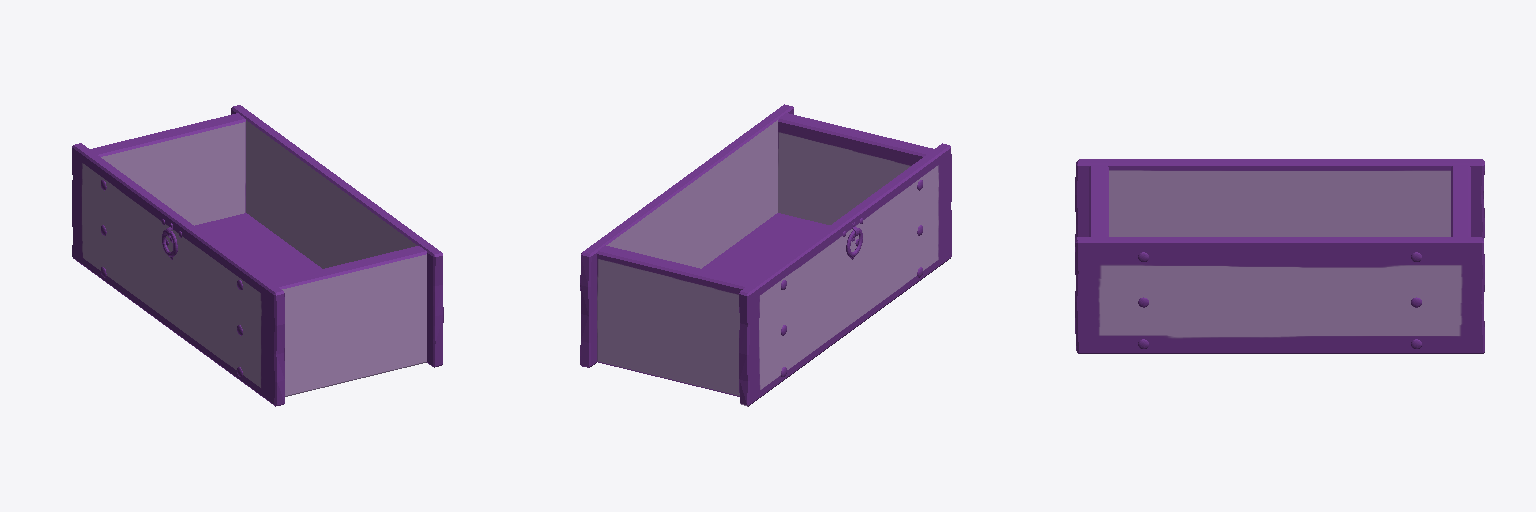
3 views of the same model, side by side, from view 1: azimuth 30°, elevation 25°; view 2: azimuth 150°, elevation 25°; view 3: azimuth 270°, elevation 25° (orthographic).
Visible parts, largest first — view 1: polySurface29; view 2: polySurface29; view 3: polySurface29.
Boxes of the visible parts, x1=… form: polySurface29: x1=72, y1=105, x2=443, y2=406; polySurface29: x1=580, y1=104, x2=951, y2=406; polySurface29: x1=1075, y1=159, x2=1484, y2=353.
Bounding box in the file's own units: 2 × 1.22 × 4.
Materials: 2 (2 with a texture image).